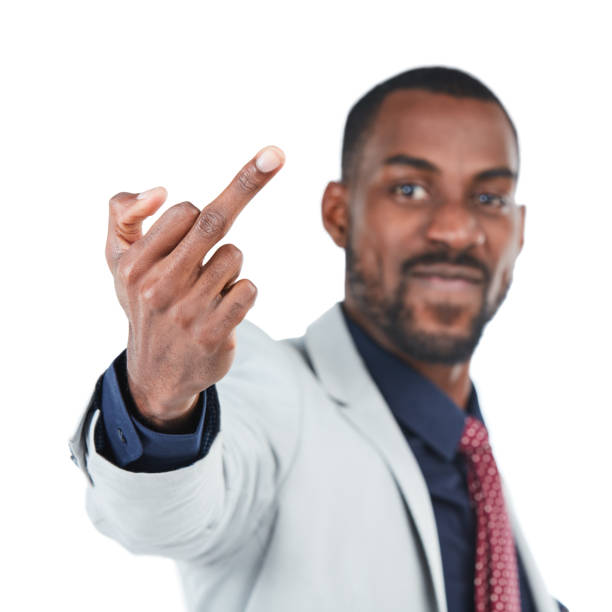insulting_gesture: (104, 143, 285, 399)
